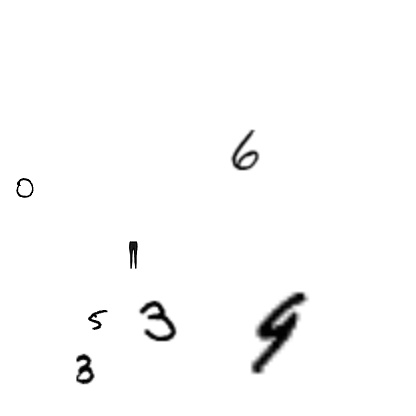0: (10, 173, 38, 201)
3: (130, 293, 186, 349), (63, 348, 105, 390)
5: (82, 305, 110, 333)
6: (215, 126, 271, 182)
9: (220, 273, 332, 385)
Trouser: (119, 241, 147, 269)
